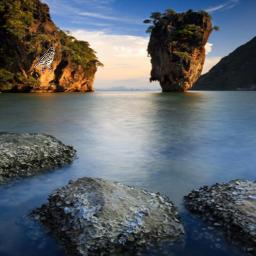Sparrow: (34, 47, 55, 72)
